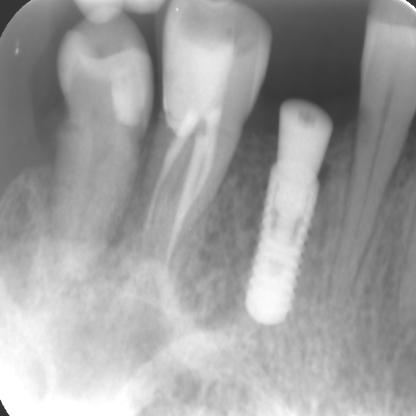ITI: (260, 181, 310, 329)
